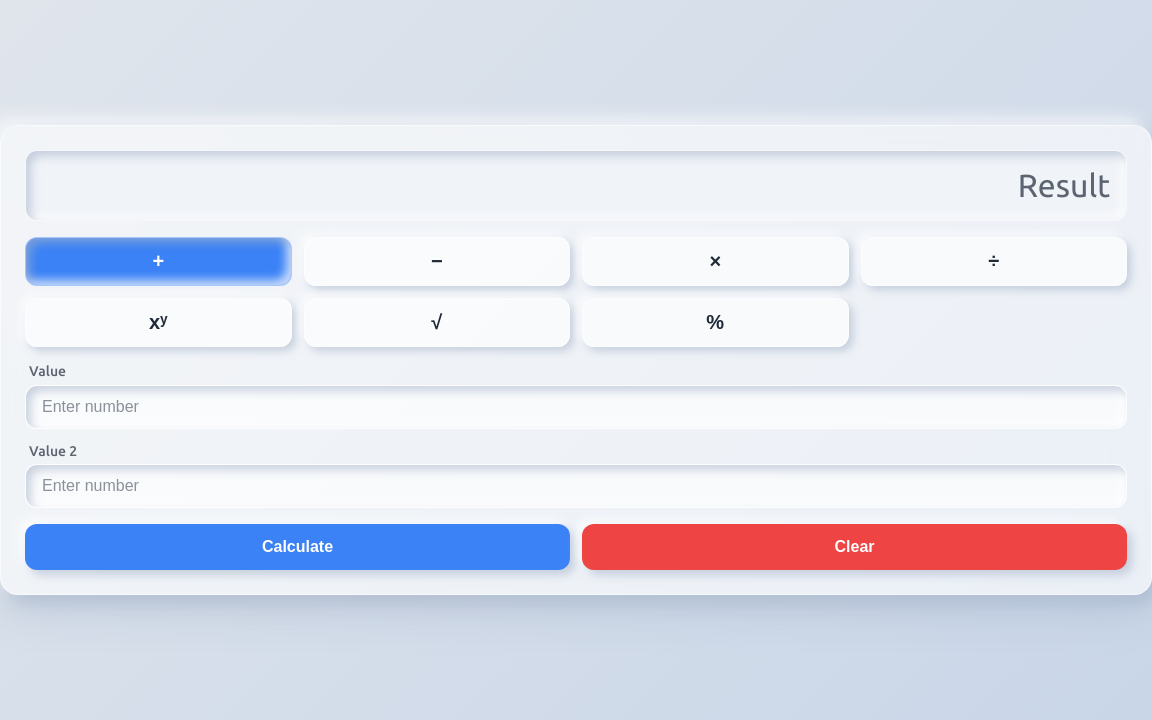
Test: Calculator UI accessibility and layout › disables input b for unary operations and keeps layout stable
Expected: the field with test id "input-b" is enabled, top-left (25, 464), bottom-right (1127, 508)
Click the button with test id "op-sqrt" at [437, 322], box top-left (304, 298), bottom-right (570, 347)
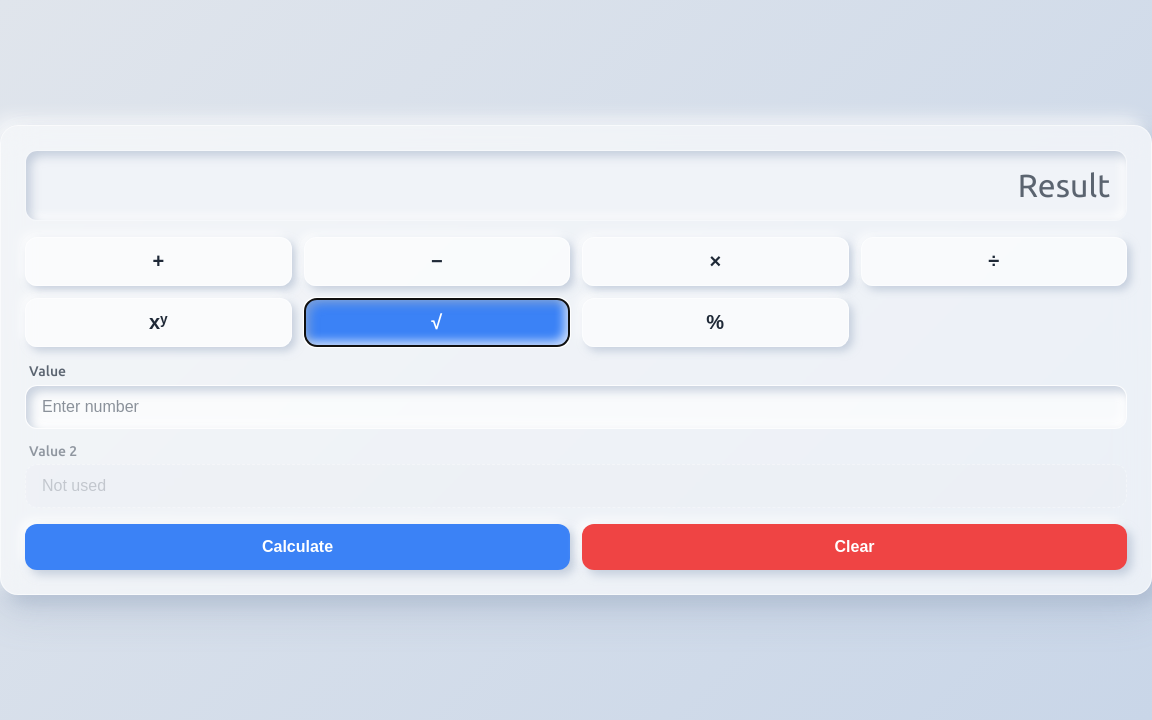
Result: the field with test id "input-b" is disabled at top-left (25, 464), bottom-right (1127, 508)
